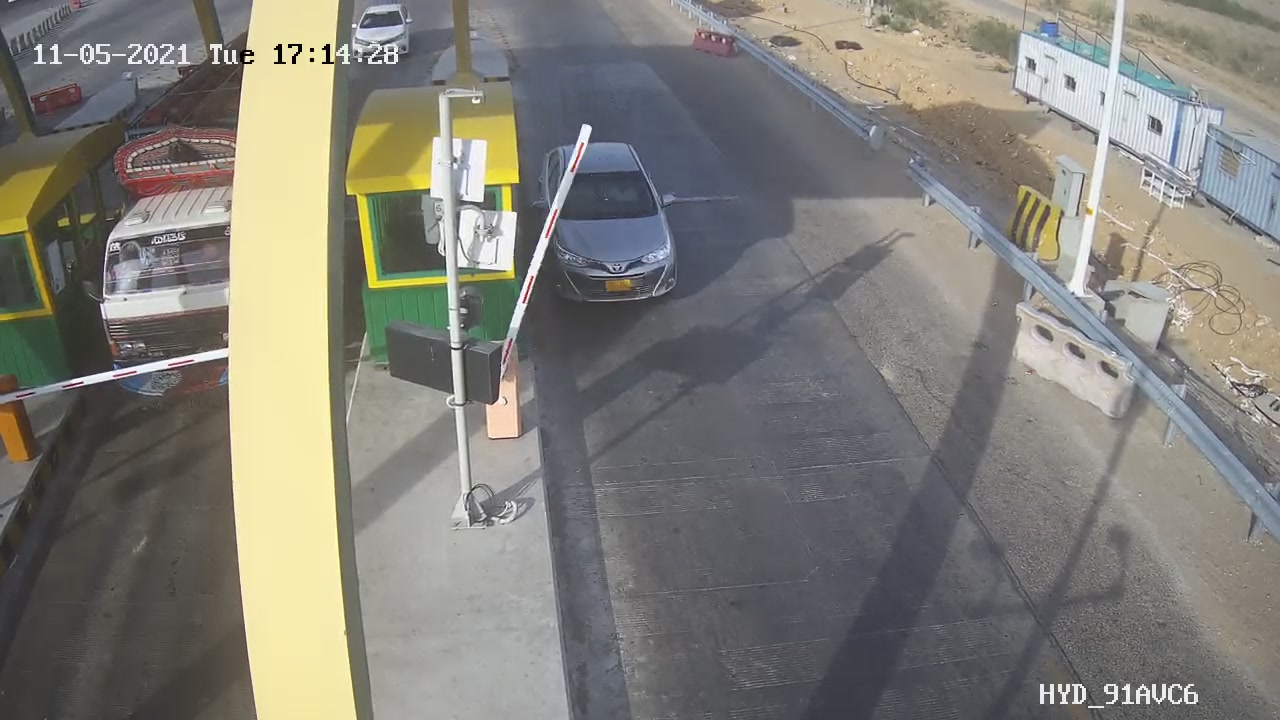F1: (517, 129, 704, 329)
